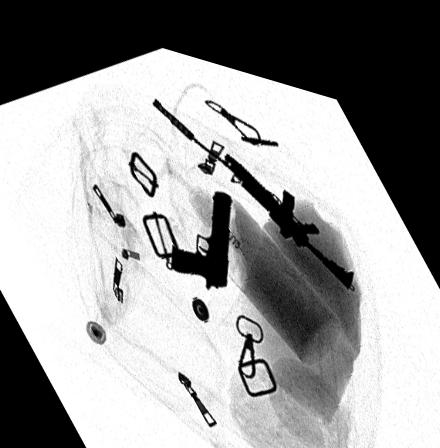Gun: (150, 88, 353, 271), (170, 178, 233, 277)
